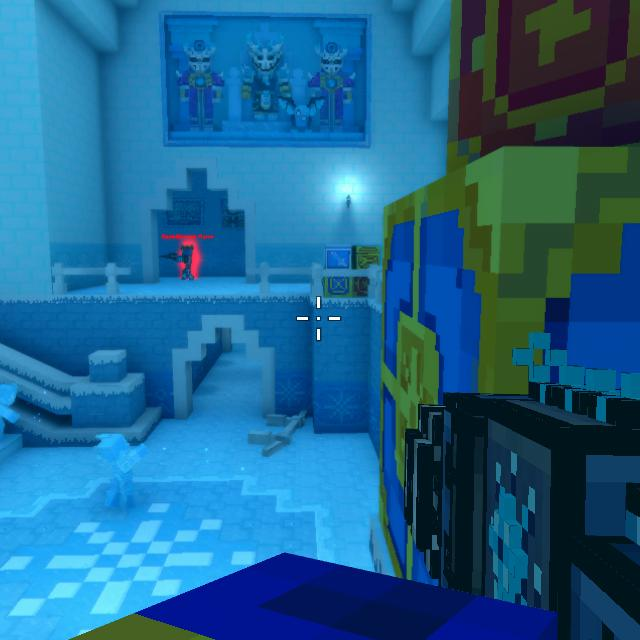Enemy: (176, 244, 194, 281)
